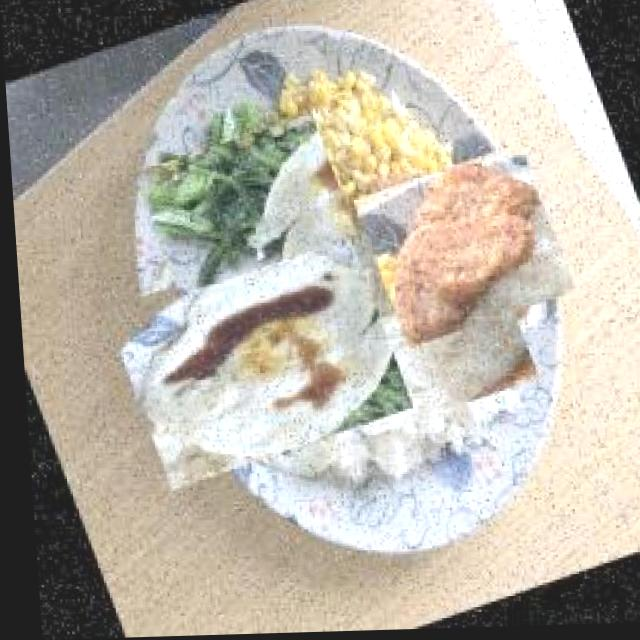fried_eggs: (107, 216, 401, 503)
rice: (307, 261, 521, 469)
triangle_hash_brown: (351, 140, 572, 355)
water_spinach: (136, 105, 346, 310)
